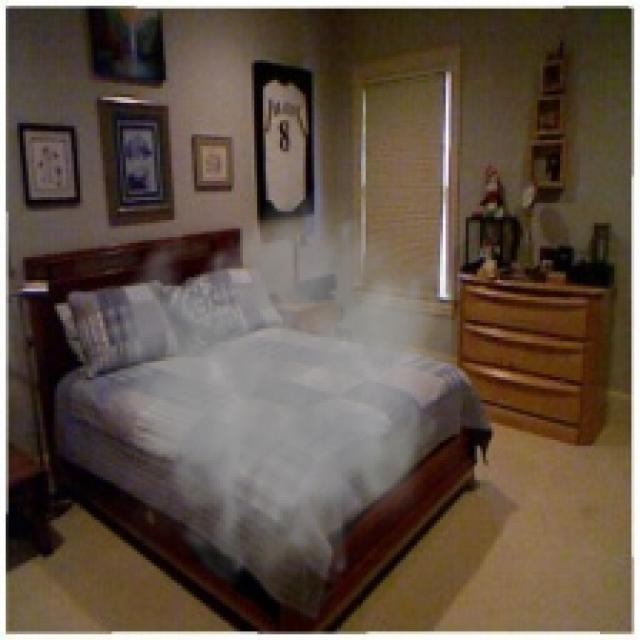Smoke: (86, 186, 452, 588)
